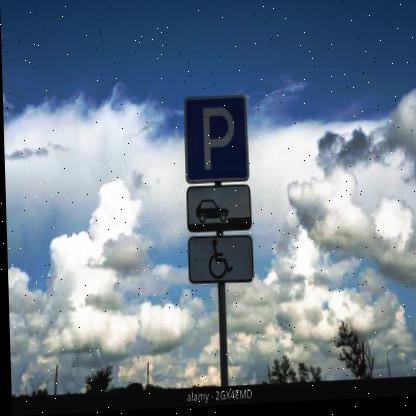Parking: (180, 96, 250, 185)
